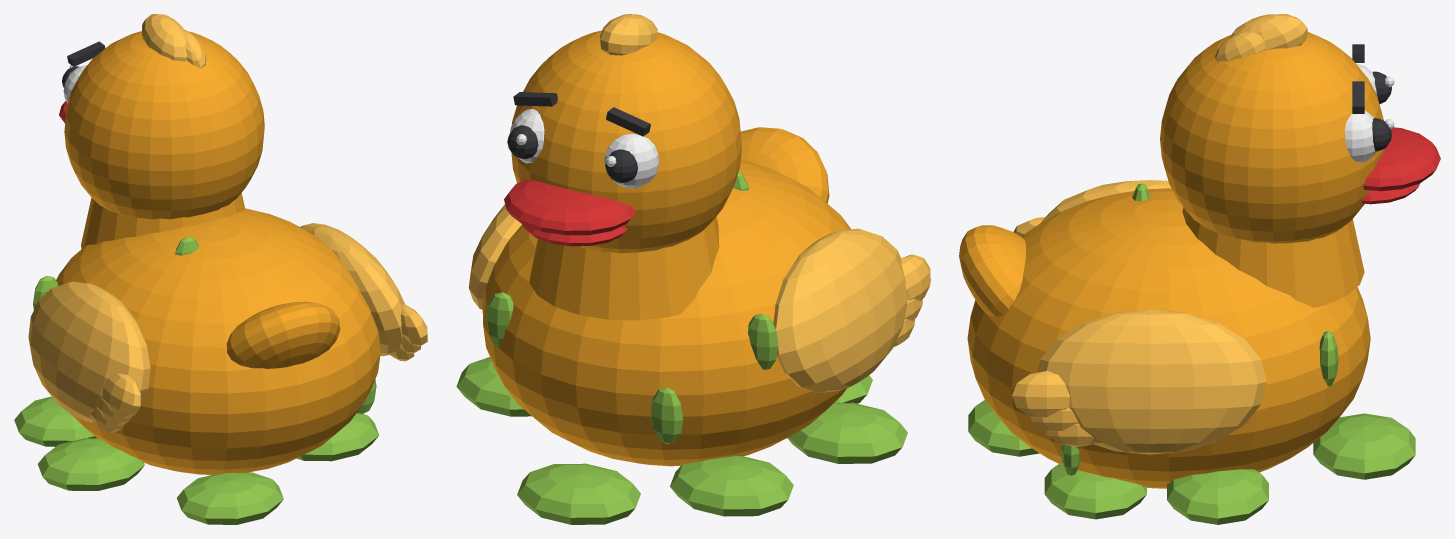
File: SEWER_DUCK_STATUE.glb
3 views of the same model, side by side, from view 1: azimuth 30°, elevation 25°; view 2: azimuth 150°, elevation 25°; view 3: azimuth 270°, elevation 25° (orthographic). The views are drawn at different scales.
Parts seen in each view (by area): view 1: DuckAmber, Ember, Moss, Pupil; view 2: DuckAmber, Moss, Ember, PropRed, Pupil, EyeWhite; view 3: DuckAmber, Ember, Moss, PropRed, EyeWhite, Pupil.
Part boxes in pixels (x1,y1,x2,y2): DuckAmber: (56,31,380,474); Ember: (28,14,427,432); Moss: (14,237,379,524); Pupil: (62,41,105,87); DuckAmber: (482,30,850,466); Moss: (456,172,907,524); Ember: (468,14,930,393); PropRed: (504,179,636,246); Pupil: (507,92,650,182); EyeWhite: (509,108,658,188); DuckAmber: (959,32,1383,488); Ember: (1012,14,1307,454); Moss: (968,183,1415,524); PropRed: (1361,127,1440,204); EyeWhite: (1344,64,1394,162); Pupil: (1352,44,1391,151).
Bounding box in the file's own units: 13.1 × 14.54 × 14.
